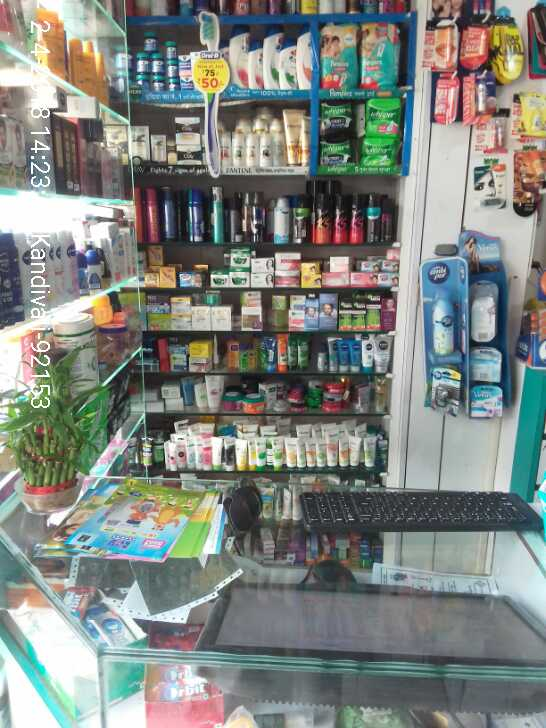vicks: (115, 29, 198, 92)
